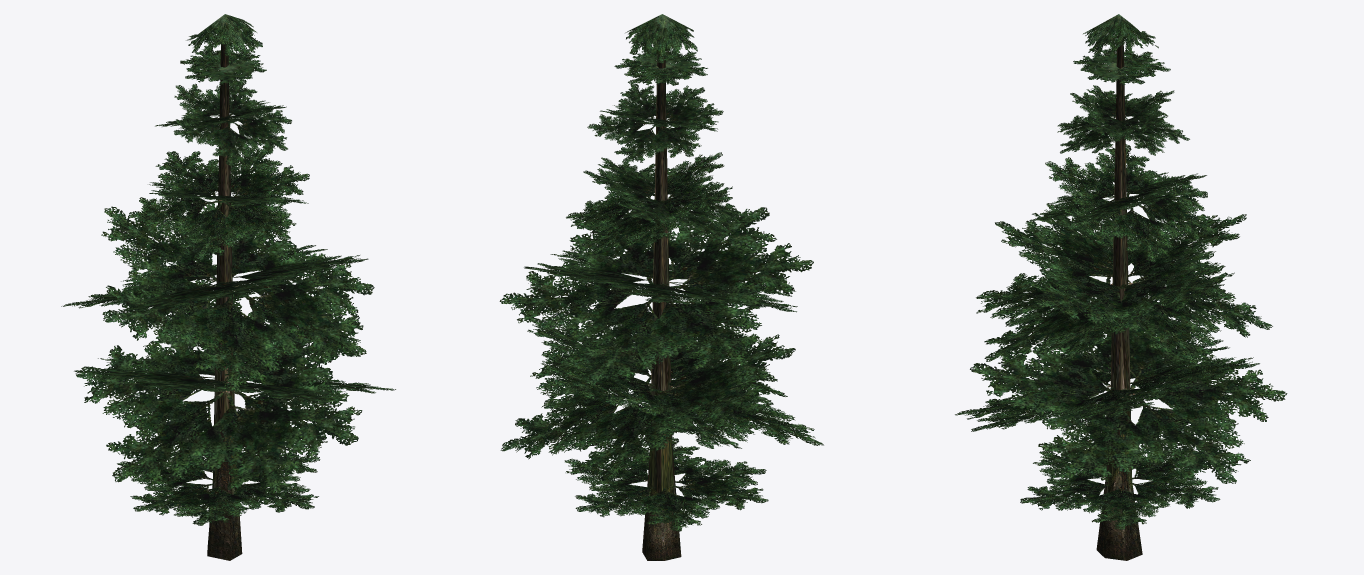
The model's file is pine.dae.
3 views of the same model, side by side, from view 1: azimuth 30°, elevation 25°; view 2: azimuth 150°, elevation 25°; view 3: azimuth 270°, elevation 25° (orthographic).
Parts seen in each view (by area): view 1: pine3; view 2: pine3; view 3: pine3.
Part boxes in pixels (x1,y1,x2,y2): pine3: (61,14,395,560); pine3: (499,14,823,560); pine3: (955,14,1287,560).
Size of the model in its own units: 213 by 278 by 212.
1 material, 1 textured.
